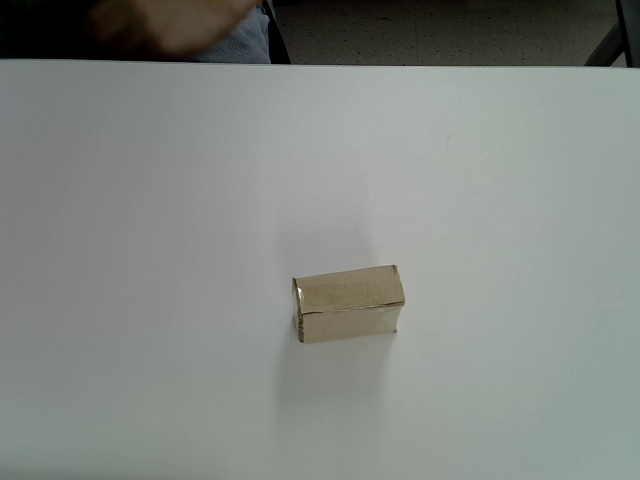normal: (291, 263, 406, 344)
